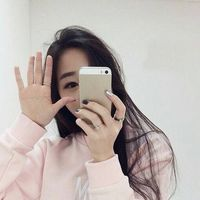face: (56, 51, 109, 123)
